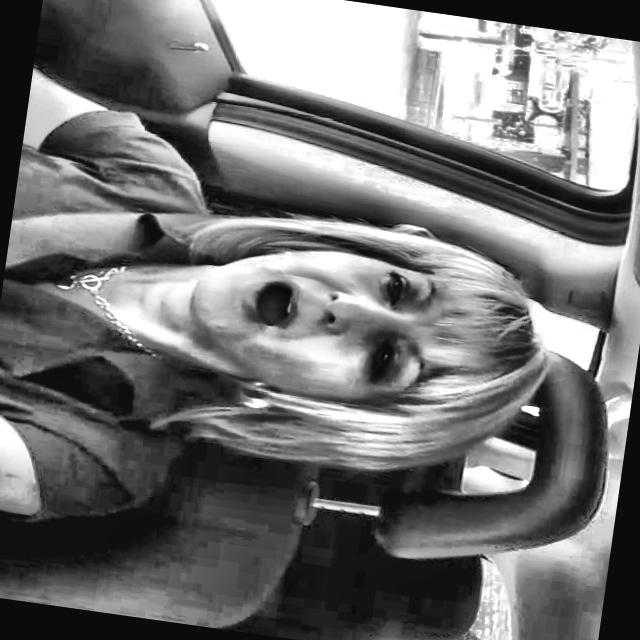open_eyes: (360, 335, 409, 392), (371, 259, 415, 313)
open_mouth: (230, 267, 309, 343)
